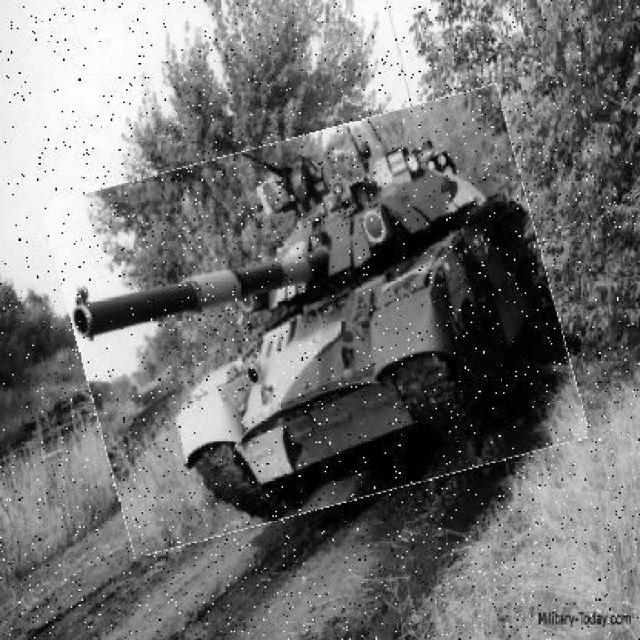Tank: (61, 112, 572, 532)
